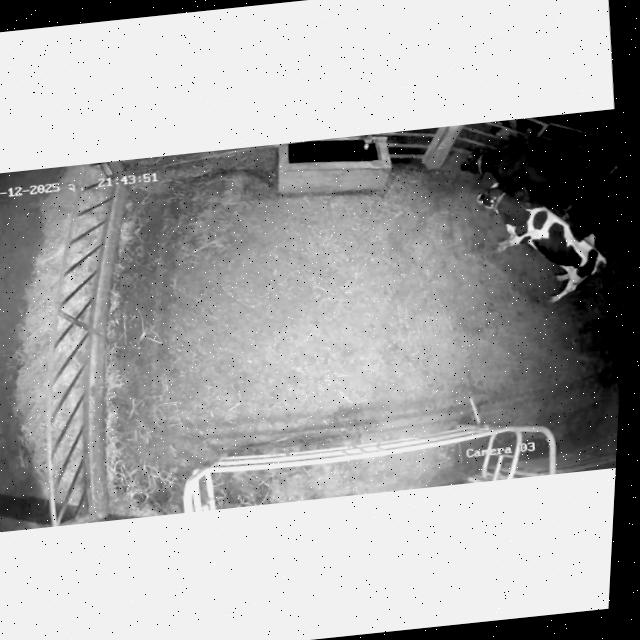stand: (459, 168, 619, 324), (455, 125, 613, 232)
